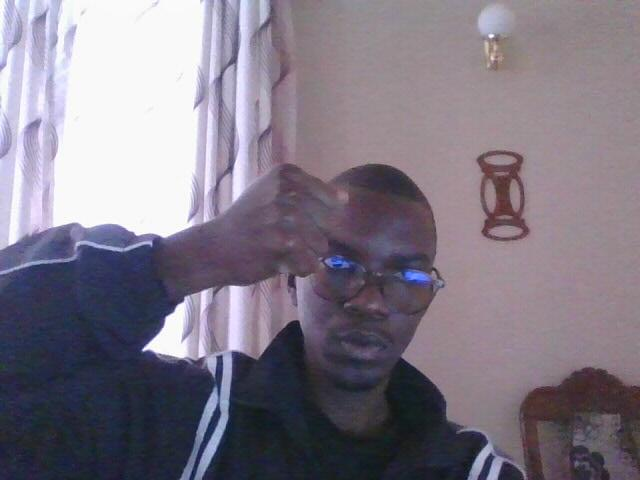rock: (219, 157, 351, 286), (218, 161, 354, 285)
